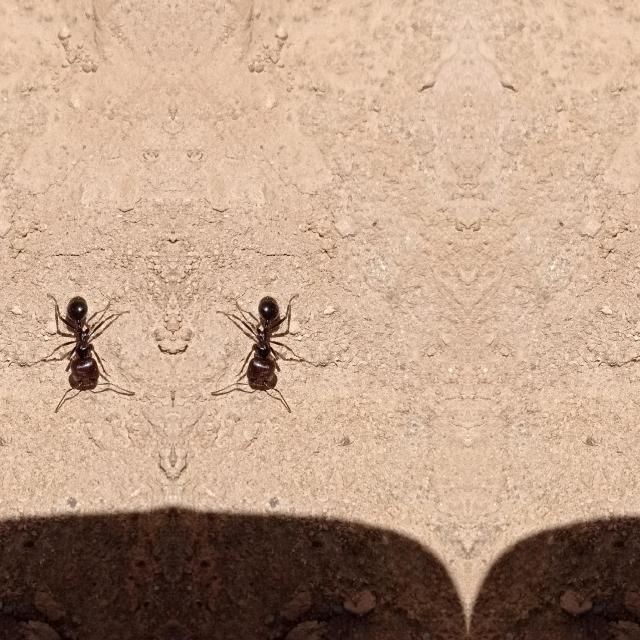Messor: (202, 280, 298, 394), (46, 280, 142, 394)
